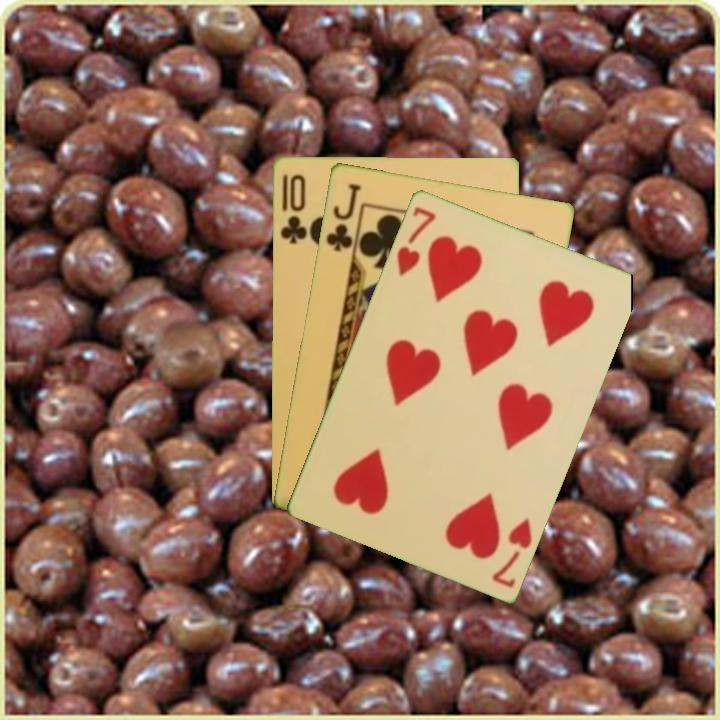10c: (277, 170, 309, 247)
7h: (488, 513, 535, 590), (392, 202, 439, 278)
Jc: (322, 179, 364, 255)
